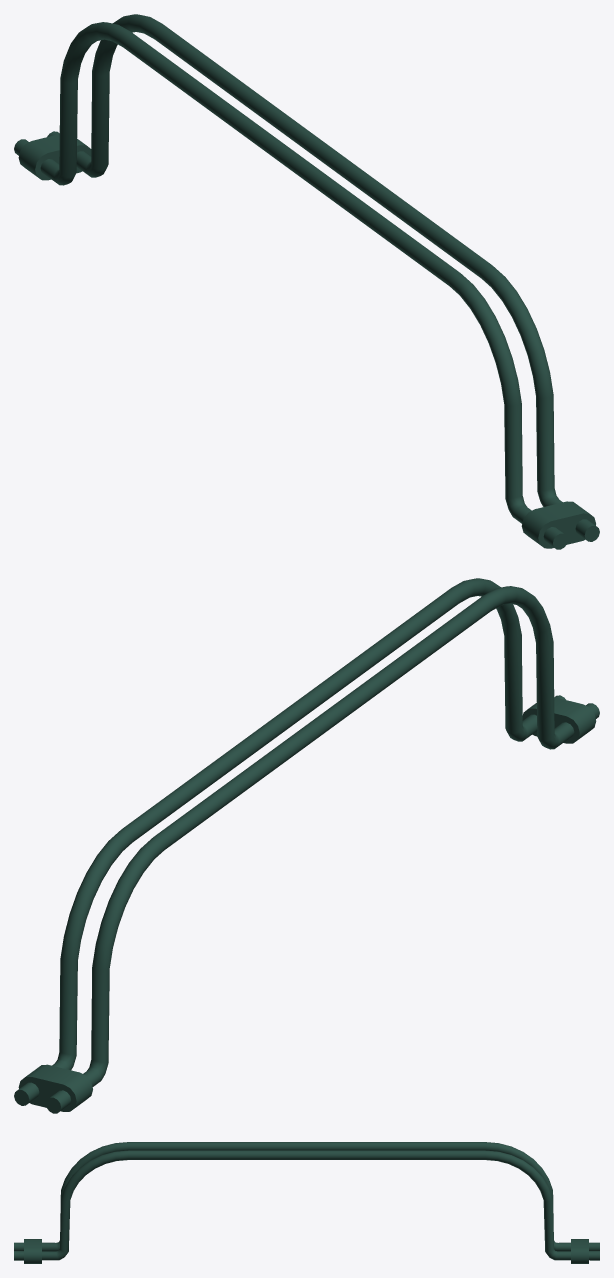
The model's file is PipeHolder_Ring02Long_Large.fbx.
3 renders of one model, top to bottom at view 1: azimuth 30°, elevation 25°; view 2: azimuth 150°, elevation 25°; view 3: azimuth 270°, elevation 25°, orthographic. The views are drawn at different scales.
Visible parts, largest first — view 1: PipeHolder_Ring02Long_Large.001; view 2: PipeHolder_Ring02Long_Large.001; view 3: PipeHolder_Ring02Long_Large.001.
Part boxes in pixels (left/top/right/bottom): PipeHolder_Ring02Long_Large.001: left=14, top=14, right=599, bottom=549; PipeHolder_Ring02Long_Large.001: left=14, top=578, right=599, bottom=1113; PipeHolder_Ring02Long_Large.001: left=14, top=1142, right=599, bottom=1263.
Size of the model in its own units: 0.0648 by 0.2202 by 1.04.
